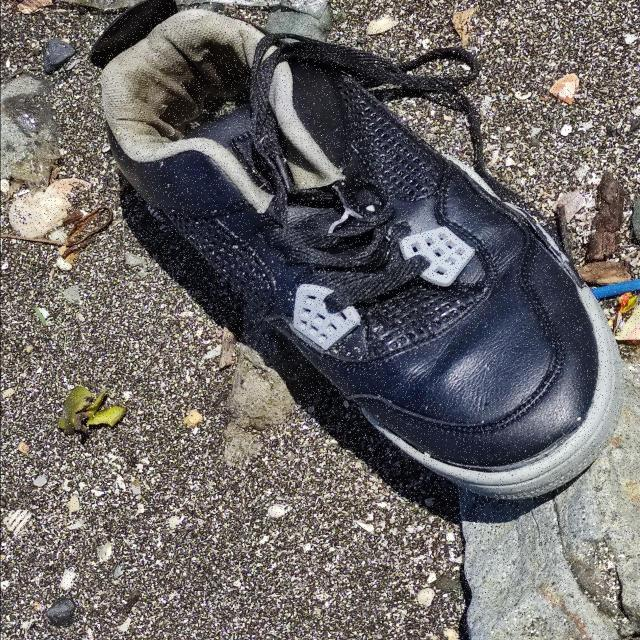rubber_waste: (87, 1, 627, 503)
